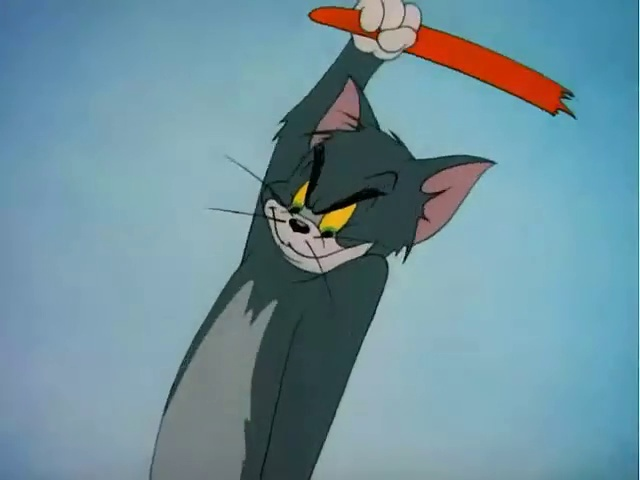tom: (119, 13, 505, 480)
